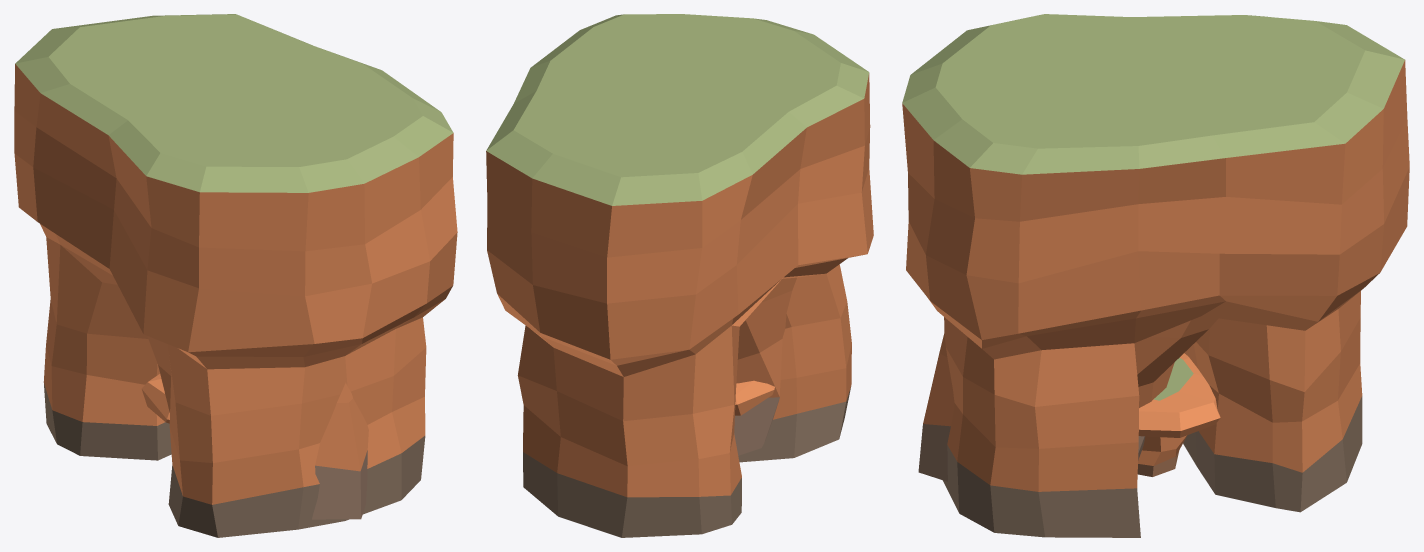
Rendered from cliff04.fbx.
The picture shows the model from 3 angles, left to right: view 1: azimuth 30°, elevation 25°; view 2: azimuth 150°, elevation 25°; view 3: azimuth 270°, elevation 25°; orthographic projection. The views are drawn at different scales.
Parts seen in each view (by area): view 1: Plane.004, Plane.003, Plane.002; view 2: Plane.004, Plane.003, Plane.002; view 3: Plane.004, Plane.003, Plane.002.
Boxes of the visible parts, <box> form: Plane.004: <box>14,14,457,537</box>; Plane.003: <box>147,336,368,519</box>; Plane.002: <box>141,374,169,423</box>; Plane.004: <box>486,14,873,537</box>; Plane.003: <box>734,277,796,455</box>; Plane.002: <box>735,380,774,415</box>; Plane.004: <box>902,14,1409,537</box>; Plane.003: <box>918,316,1218,481</box>; Plane.002: <box>1137,353,1220,476</box>.
Size of the model in its own units: 646 by 780 by 895.
